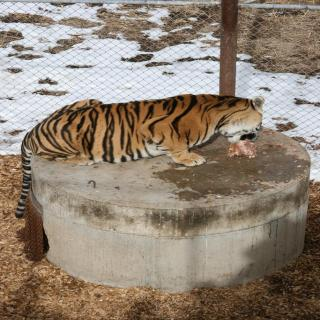Tiger: (15, 92, 267, 218)
